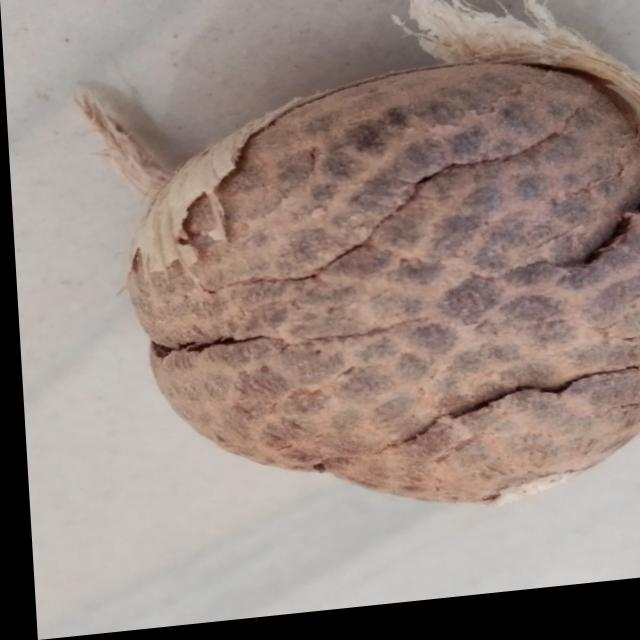phatora: (64, 0, 640, 562)
